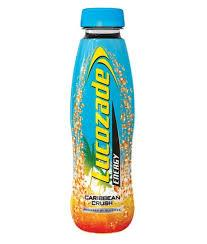Plastic bottle: (64, 6, 144, 237)
